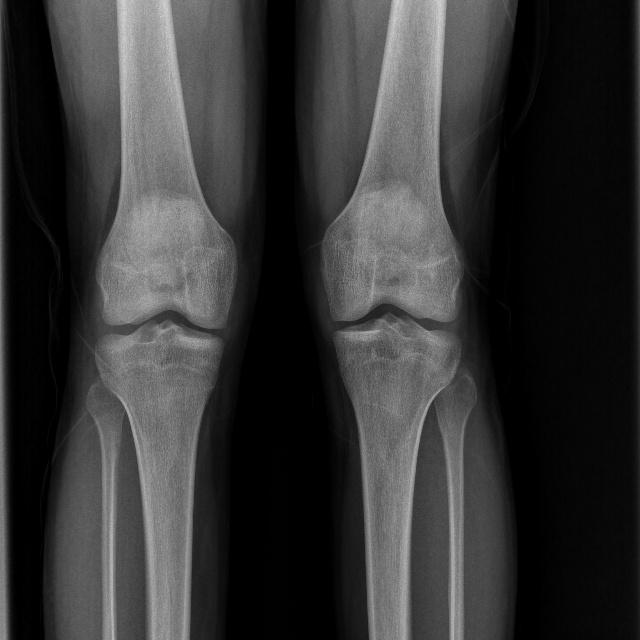Knee: (89, 229, 240, 412), (317, 229, 466, 405)
